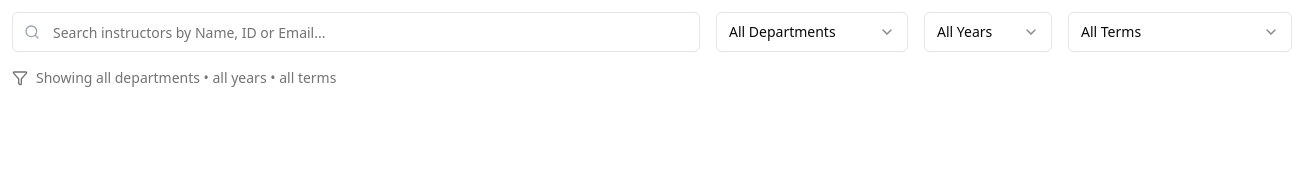
Scenario: RequirementsFilters › shows department options when clicked
Click the dropdown labelled "All Departments".
click(812, 32)  # box [716, 12, 908, 52]
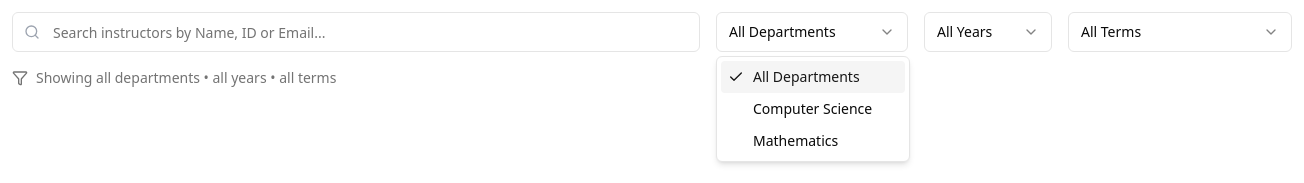
Now the option "All Departments" is shown, box [721, 61, 905, 93]
Now the option "Computer Science" is shown, box [753, 99, 872, 118]
Now the option "Mathematics" is shown, box [753, 131, 838, 150]
